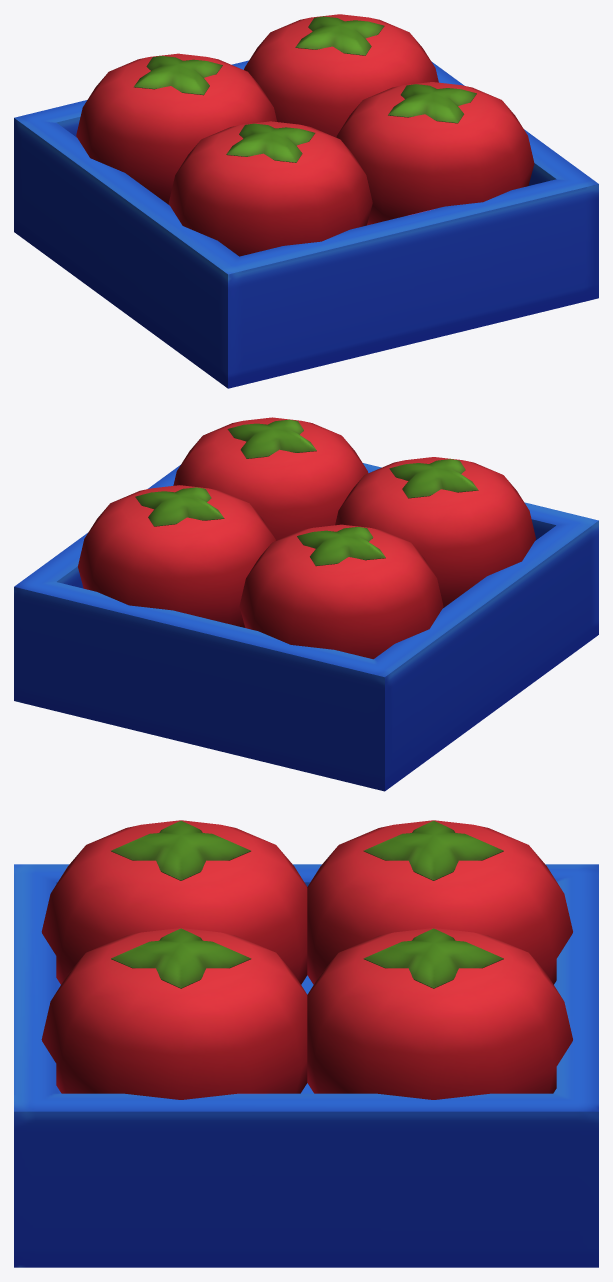
File: tomato_002_v02.fbx
3 views of the same model, one above another, from view 1: azimuth 30°, elevation 25°; view 2: azimuth 150°, elevation 25°; view 3: azimuth 270°, elevation 25° (orthographic). The views are drawn at different scales.
Parts seen in each view (by area): view 1: Cube.001; view 2: Cube.001; view 3: Cube.001.
Part boxes in pixels (x1,y1,x2,y2): Cube.001: (14,14,598,388); Cube.001: (14,417,598,791); Cube.001: (14,820,598,1267).
Size of the model in its own units: 52.45 by 25.21 by 52.45.
